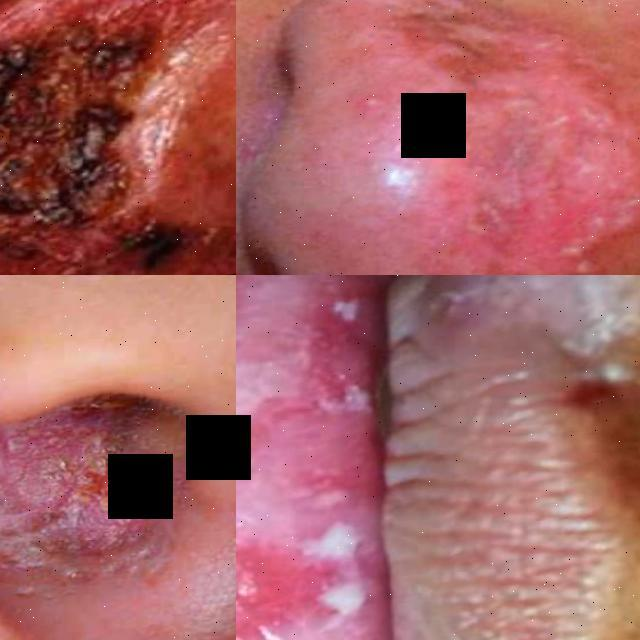lupus-detected: (236, 275, 628, 640), (236, 0, 640, 275), (0, 275, 236, 640), (0, 0, 236, 275), (164, 409, 236, 638)
